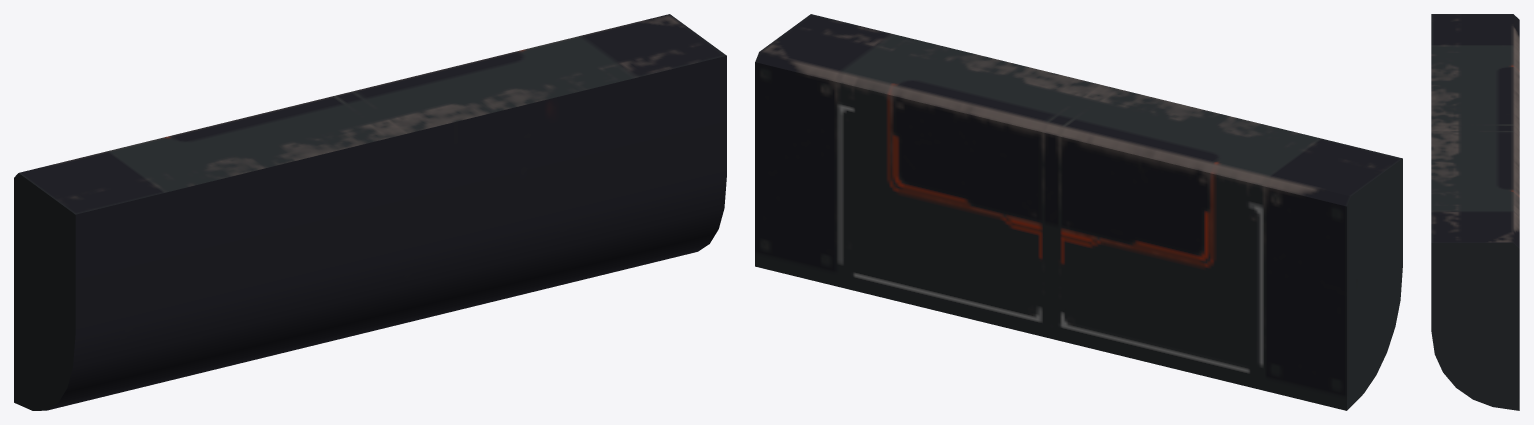
Rendered from Interior2_panel_SciFi_10_BS.fbx.
3 views of the same model, side by side, from view 1: azimuth 30°, elevation 25°; view 2: azimuth 150°, elevation 25°; view 3: azimuth 270°, elevation 25° (orthographic). The views are drawn at different scales.
Parts seen in each view (by area): view 1: Interior2_panel_SciFi_10_BS; view 2: Interior2_panel_SciFi_10_BS; view 3: Interior2_panel_SciFi_10_BS.
Part boxes in pixels (bbox=[...]): Interior2_panel_SciFi_10_BS: bbox=[14, 14, 726, 410]; Interior2_panel_SciFi_10_BS: bbox=[755, 14, 1402, 410]; Interior2_panel_SciFi_10_BS: bbox=[1431, 14, 1519, 410].
Size of the model in its own units: 199 by 68.04 by 32.53.
Materials: 1 (1 with a texture image).
